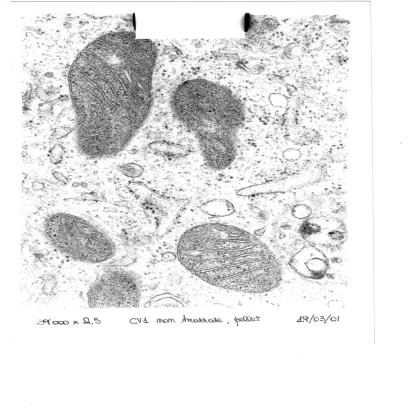mitochondria: (66, 30, 155, 157), (177, 224, 282, 292), (175, 79, 244, 170), (46, 211, 115, 263), (84, 268, 142, 308)
